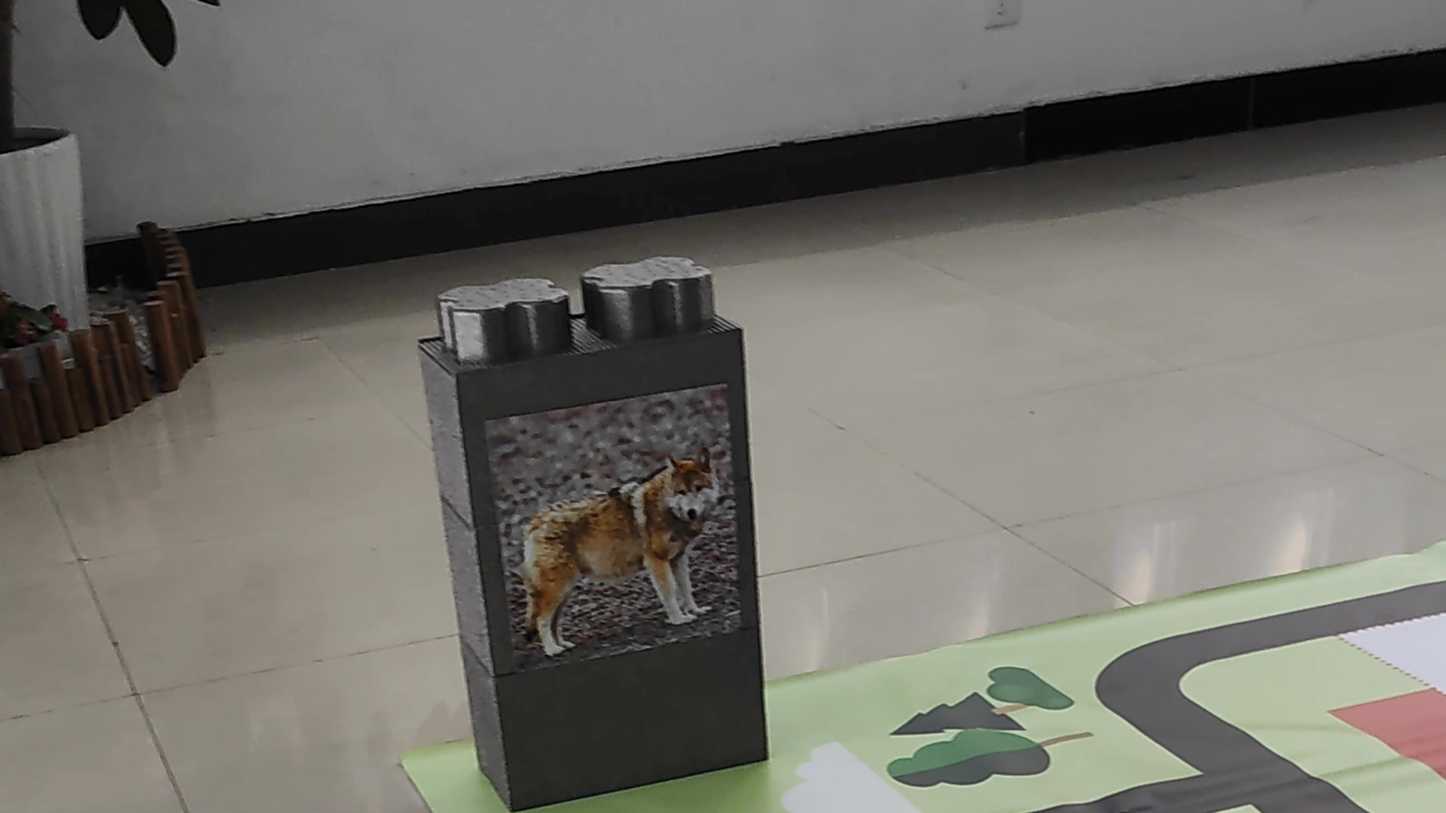wolf: (499, 431, 736, 642)
